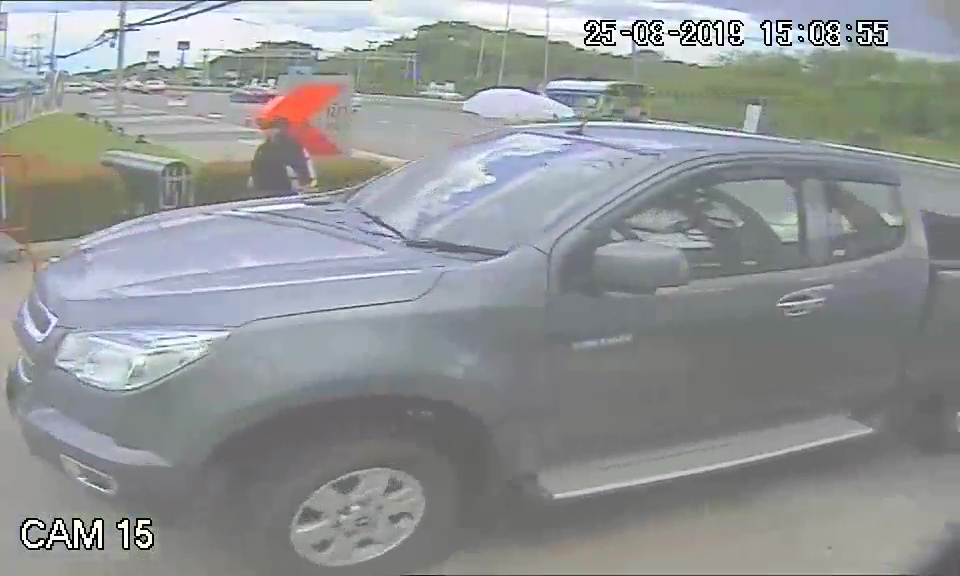pickup: (9, 126, 939, 510)
